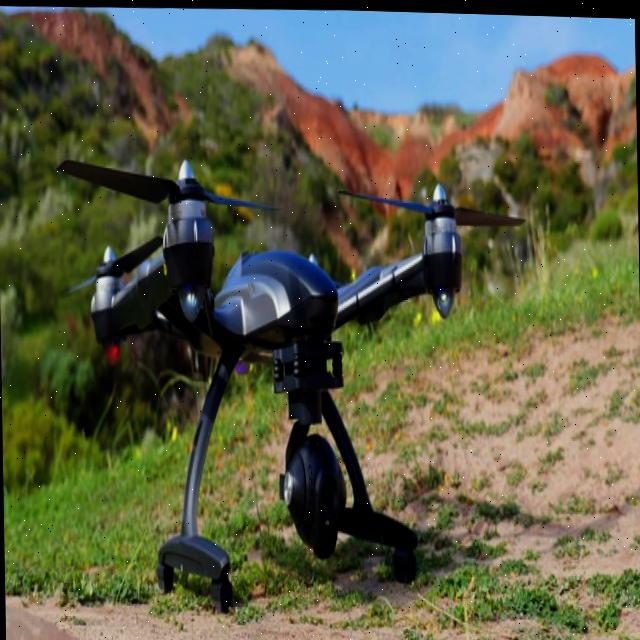drone: (77, 110, 521, 435)
